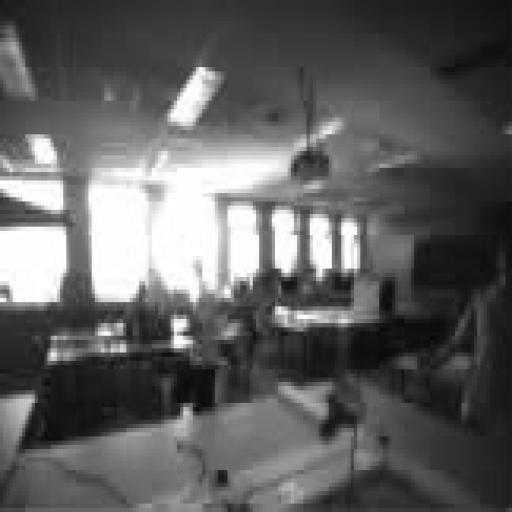human: (421, 236, 511, 436)
